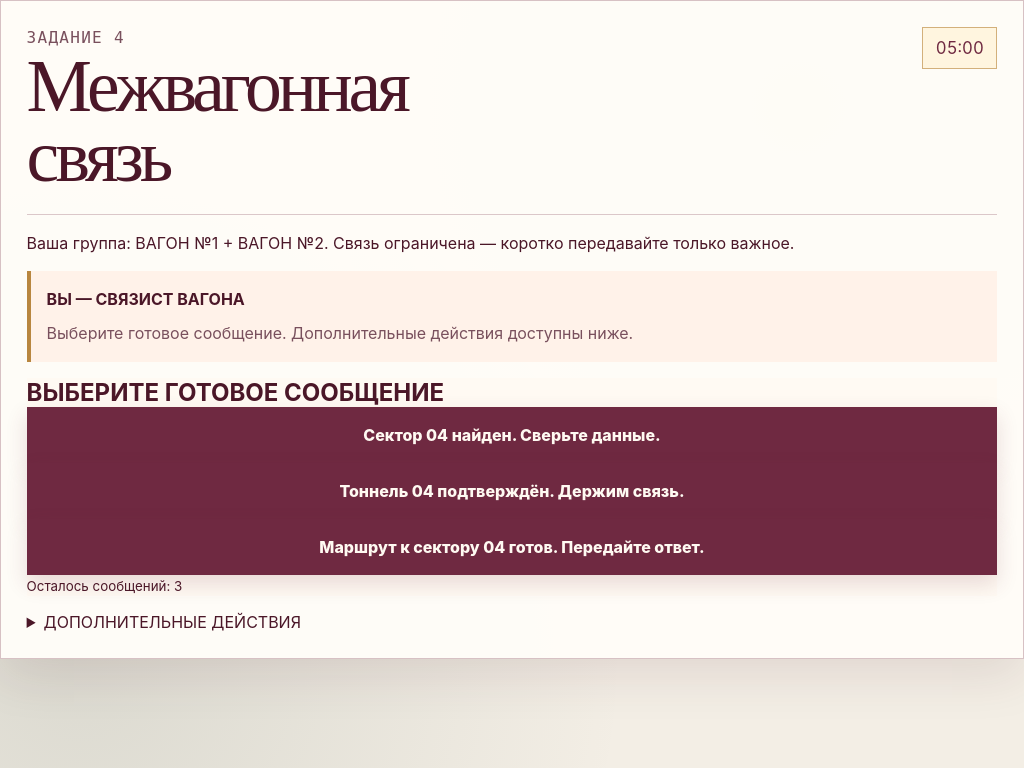
Test: MissionFourPlayer › keeps free text, trades, and history available as secondary actions
The width and height of the screenshot is (1024, 768).
What coordinates should you click on to do the following:
click the heading "ДОПОЛНИТЕЛЬНЫЕ ДЕЙСТВИЯ"
I would click on:
 (172, 622)
Its box is [44,612,301,632].
(page scrolled)
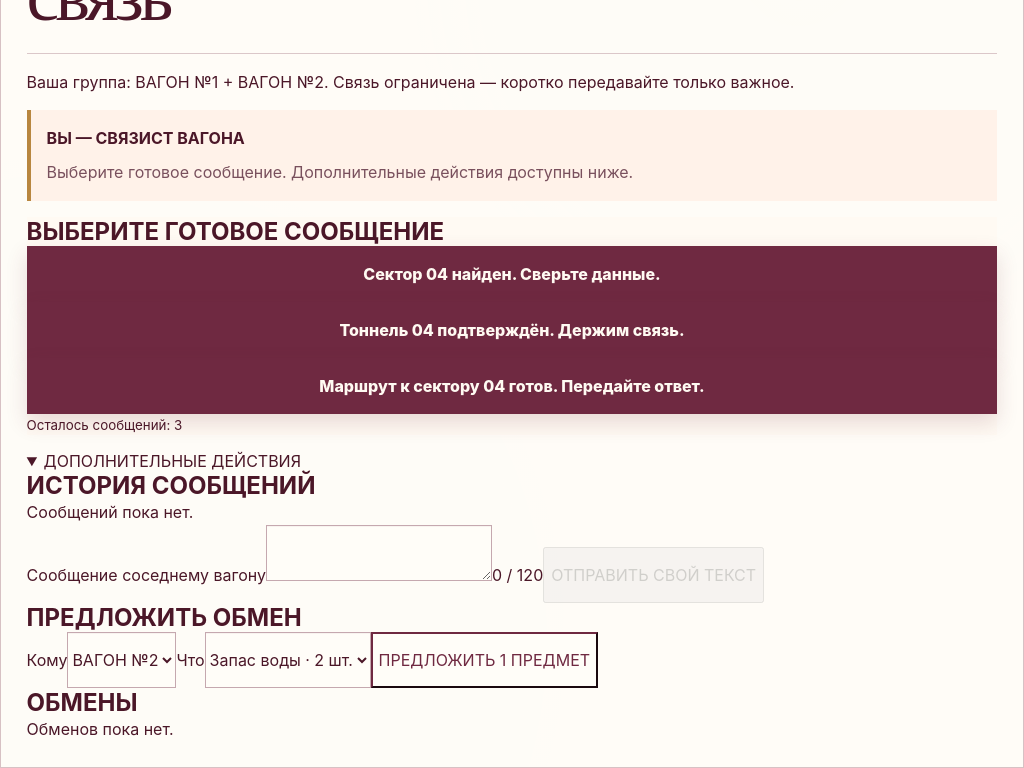
Expected: the element named "Обмен ресурсами" is shown, [27,603,598,688]
Expected: the element named "История обменов" is shown, [27,688,174,739]
